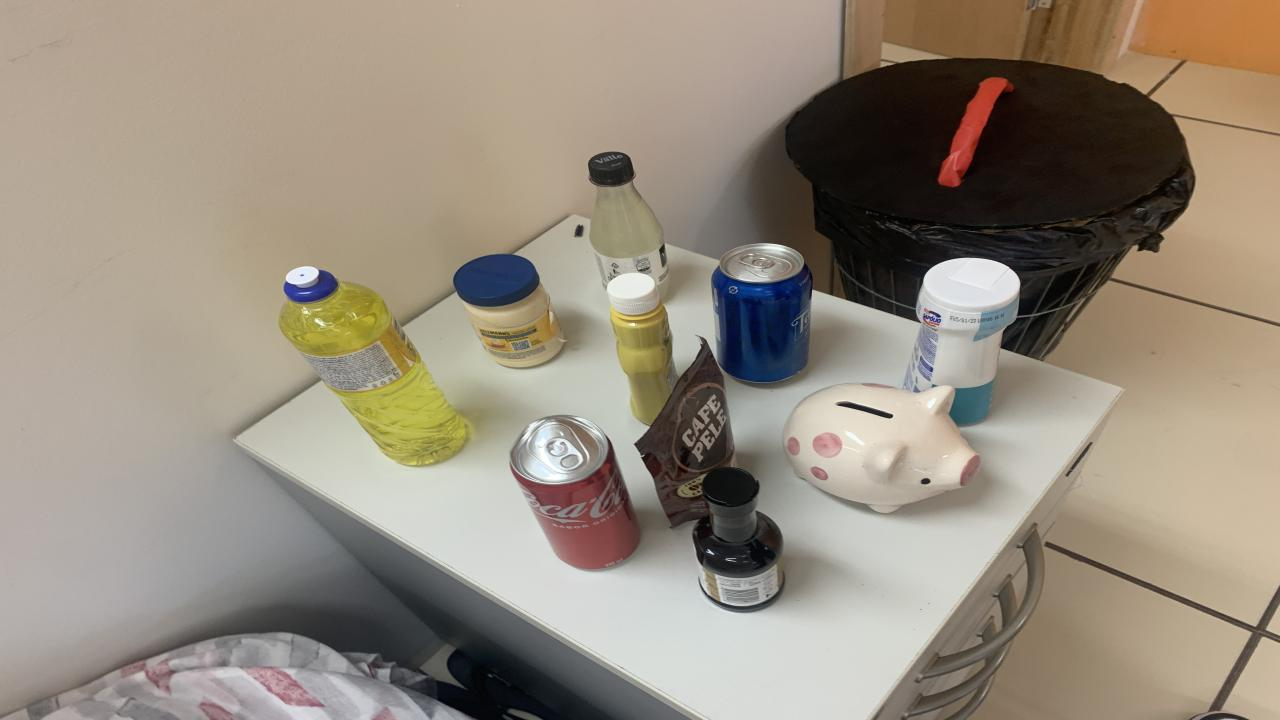Cleaner-Cleanup_Items: (902, 257, 1020, 426)
Coffee-Pantry_Items: (635, 338, 735, 527)
Coke-Drinks: (510, 414, 640, 570)
Detergent-Cleanup_Items: (280, 266, 468, 465)
English_Sauce-Pantry_Items: (692, 469, 785, 611)
Mayonnaise-Pantry_Items: (452, 255, 565, 368)
Mustard-Pantry_Items: (608, 272, 675, 424)
Pig_Safe-Miscellaneous: (782, 382, 980, 512)
Soda-Drinks: (588, 152, 668, 296)
Tonic-Drinks: (712, 244, 812, 382)
